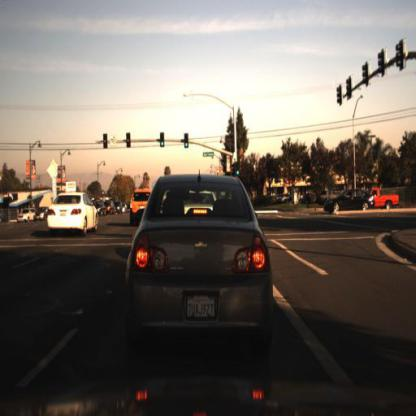car: (115, 167, 294, 376), (43, 187, 105, 246), (322, 184, 364, 224), (124, 176, 154, 230), (10, 187, 46, 226), (129, 186, 158, 226), (377, 183, 412, 214), (371, 186, 400, 211), (15, 206, 38, 227), (30, 206, 51, 224)
trafficLight: (124, 134, 132, 159), (103, 130, 111, 151), (160, 130, 168, 149)
trafficLight-Green: (179, 132, 193, 163), (234, 161, 242, 186), (157, 134, 165, 158), (235, 161, 243, 179)
trafficLight-Red: (183, 133, 190, 153)
trafficLight-RedLeft: (100, 132, 110, 159)
